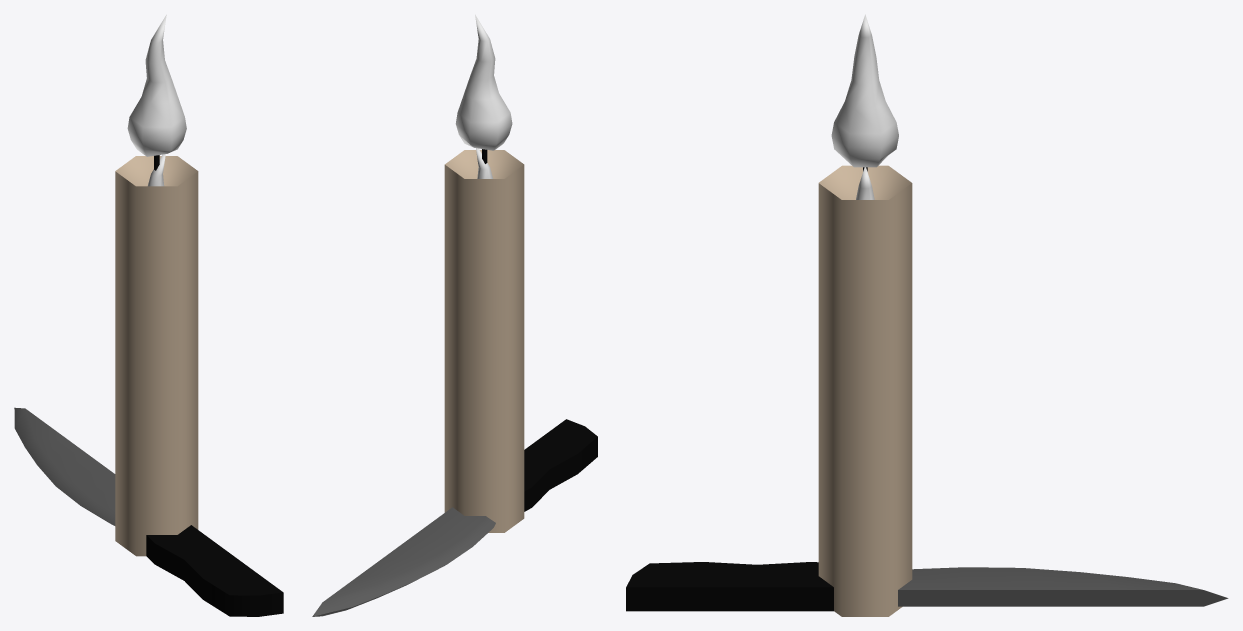
File: RitualsTools.fbx
The picture shows the model from 3 angles, left to right: view 1: azimuth 30°, elevation 25°; view 2: azimuth 150°, elevation 25°; view 3: azimuth 270°, elevation 25°; orthographic projection. The views are drawn at different scales.
Parts seen in each view (by area): view 1: Candle01, RitualKnife, Candle02, Cangle01Flame; view 2: Candle01, Candle02, RitualKnife, Cangle01Flame; view 3: Candle01, Candle02, RitualKnife, Cangle01Flame.
Part boxes in pixels (box(x1,y1,x2,y2)): Candle01: box(115, 155, 198, 556); RitualKnife: box(14, 407, 283, 616); Candle02: box(115, 305, 198, 556); Cangle01Flame: box(127, 14, 186, 156); Candle01: box(444, 149, 524, 532); Candle02: box(444, 293, 524, 532); RitualKnife: box(312, 419, 597, 616); Cangle01Flame: box(455, 14, 512, 150); Candle01: box(818, 165, 912, 616); Candle02: box(818, 334, 912, 616); RitualKnife: box(626, 562, 1228, 611); Cangle01Flame: box(831, 14, 898, 167).
Bounding box in the file's own units: 5.28 × 41.85 × 38.65.
